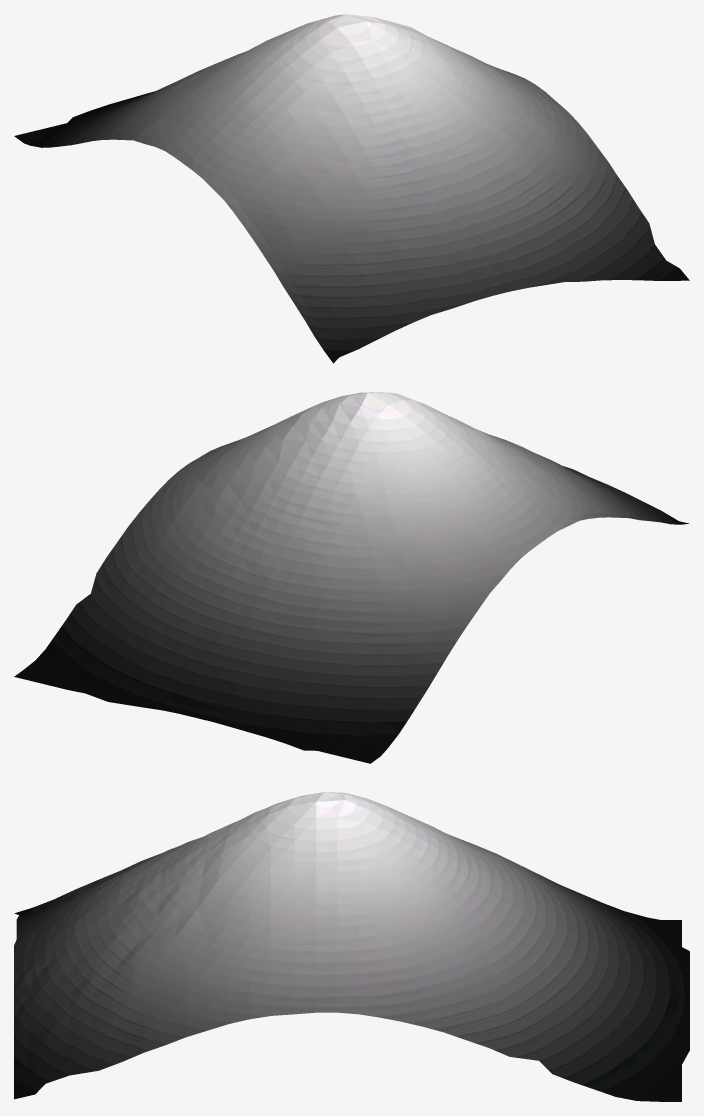
3 renders of one model, top to bottom at view 1: azimuth 30°, elevation 25°; view 2: azimuth 150°, elevation 25°; view 3: azimuth 270°, elevation 25°, orthographic. The views are drawn at different scales.
Visible parts, largest first — view 1: bbbbbbbbbb; view 2: bbbbbbbbbb; view 3: bbbbbbbbbb.
Boxes of the visible parts, left/top/right/bottom form: bbbbbbbbbb: left=14, top=14, right=689, bottom=363; bbbbbbbbbb: left=14, top=392, right=688, bottom=763; bbbbbbbbbb: left=14, top=792, right=689, bottom=1101.
Bounding box in the file's own units: 237 × 127 × 372.
1 material, 1 textured.
